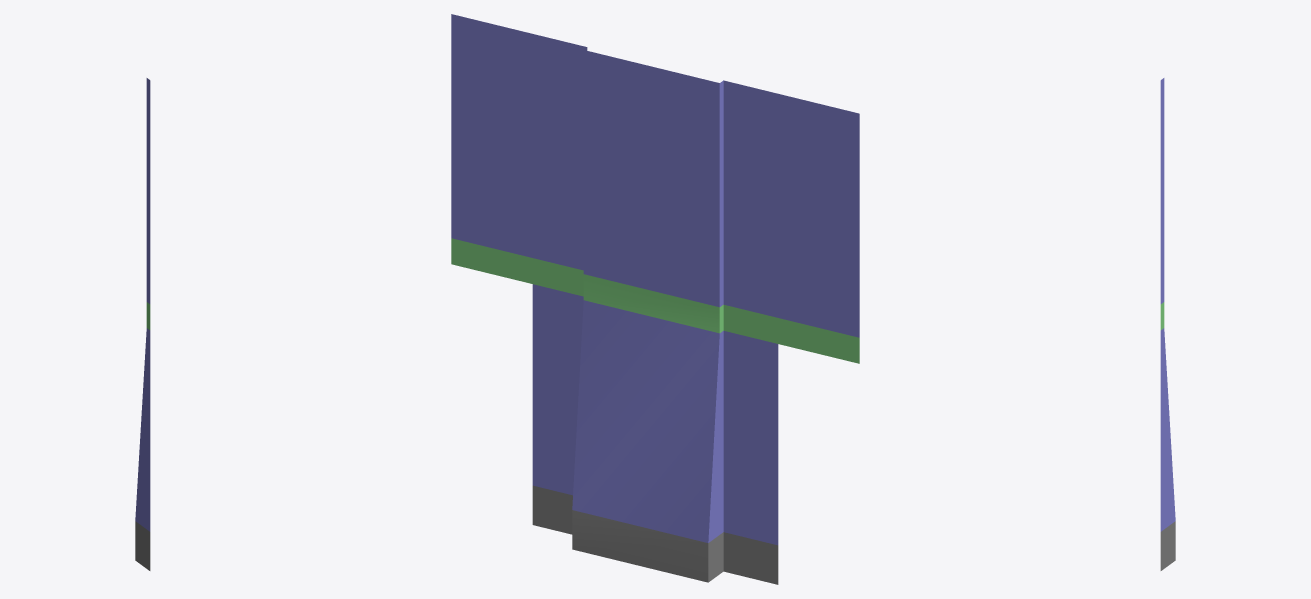
Rendered from SSQ_dungeon_S__SSQ_Room03_Gatedoor.gltf.
3 views of the same model, side by side, from view 1: azimuth 30°, elevation 25°; view 2: azimuth 150°, elevation 25°; view 3: azimuth 330°, elevation 25° (orthographic).
Visible parts, largest first — view 1: SSQ_Room03_Gatedoor; view 2: SSQ_Room03_Gatedoor; view 3: SSQ_Room03_Gatedoor.
Part boxes in pixels (x1=…): SSQ_Room03_Gatedoor: x1=135, y1=78, x2=150, y2=570; SSQ_Room03_Gatedoor: x1=451, y1=14, x2=859, y2=584; SSQ_Room03_Gatedoor: x1=1160, y1=78, x2=1175, y2=570.
Size of the model in its own units: 2.85 by 3.28 by 0.1835.
